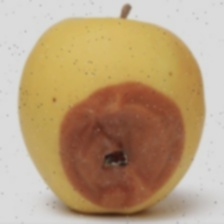apple: (24, 38, 161, 208)
